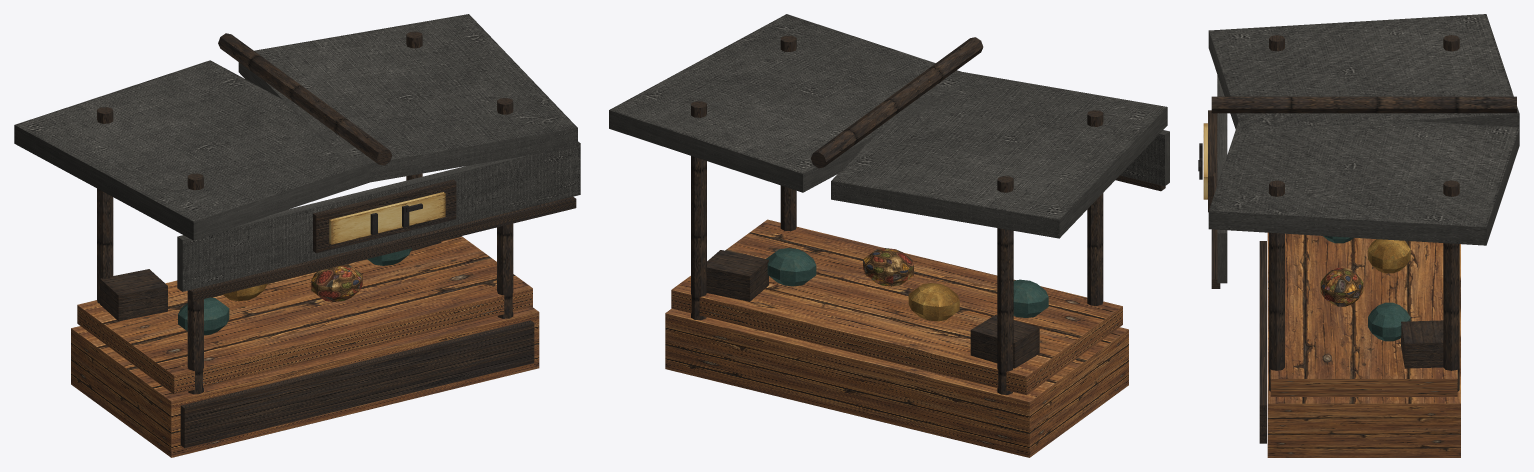
The model's file is market-stall.glb.
3 views of the same model, side by side, from view 1: azimuth 30°, elevation 25°; view 2: azimuth 150°, elevation 25°; view 3: azimuth 270°, elevation 25° (orthographic). The views are drawn at different scales.
Visible parts, largest first — view 1: market_stall_landmark; view 2: market_stall_landmark; view 3: market_stall_landmark.
Part boxes in pixels (x1,y1,x2,y2): market_stall_landmark: (14, 14, 580, 457); market_stall_landmark: (609, 14, 1169, 457); market_stall_landmark: (1198, 14, 1519, 457).
Bounding box in the file's own units: 4.05 × 2.43 × 2.58.
10 materials, 10 textured.
